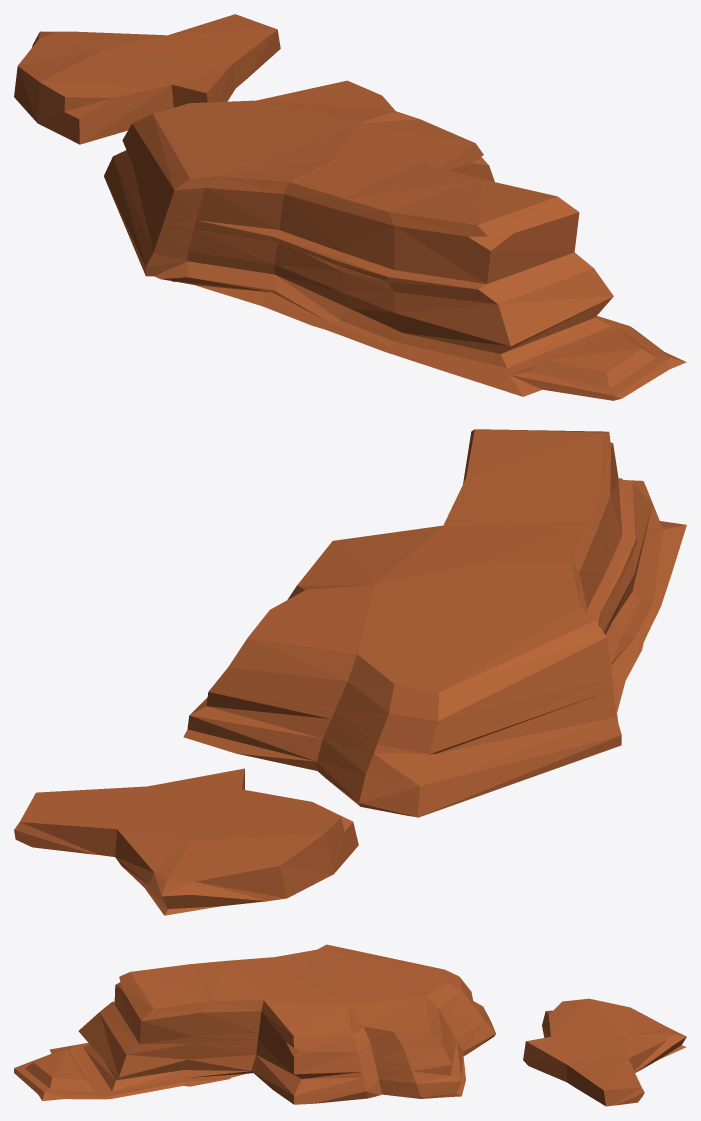
File: model_rock_conyon03.fbx
3 renders of one model, top to bottom at view 1: azimuth 30°, elevation 25°; view 2: azimuth 150°, elevation 25°; view 3: azimuth 270°, elevation 25°, orthographic. The views are drawn at different scales.
Parts seen in each view (by area): view 1: model_rock_conyon03; view 2: model_rock_conyon03; view 3: model_rock_conyon03.
Part boxes in pixels (bbox=[...]): model_rock_conyon03: bbox=[14, 14, 686, 400]; model_rock_conyon03: bbox=[14, 429, 686, 915]; model_rock_conyon03: bbox=[14, 944, 686, 1106].
Bounding box in the file's own units: 263 × 93.04 × 688.
Materials: 1 (1 with a texture image).
